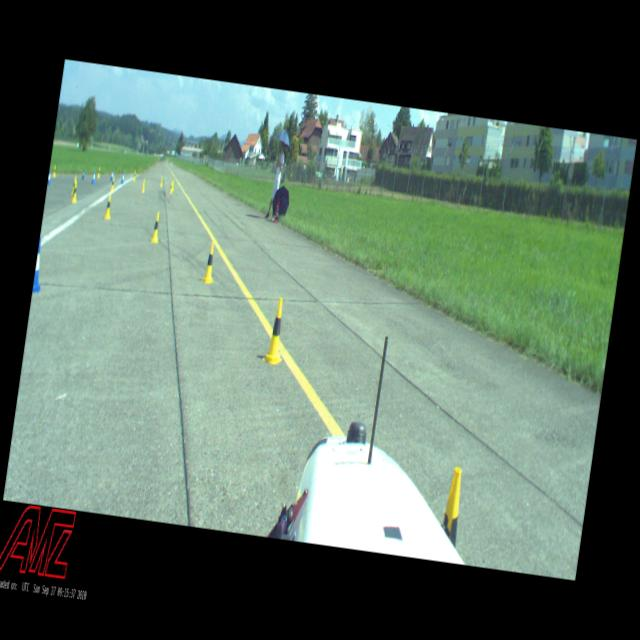blue_cone: (32, 238, 48, 292), (81, 166, 86, 180), (48, 171, 52, 185), (92, 171, 96, 184), (121, 172, 125, 183), (111, 170, 114, 180)
yellow_cone: (438, 467, 466, 548), (262, 297, 290, 365), (201, 242, 219, 284), (150, 212, 162, 243), (104, 194, 113, 218), (72, 181, 80, 203), (72, 177, 78, 194), (110, 176, 116, 192), (142, 178, 146, 192), (172, 180, 176, 192), (52, 166, 56, 177), (133, 171, 137, 181), (170, 182, 173, 194), (160, 176, 163, 187), (98, 168, 100, 178)
